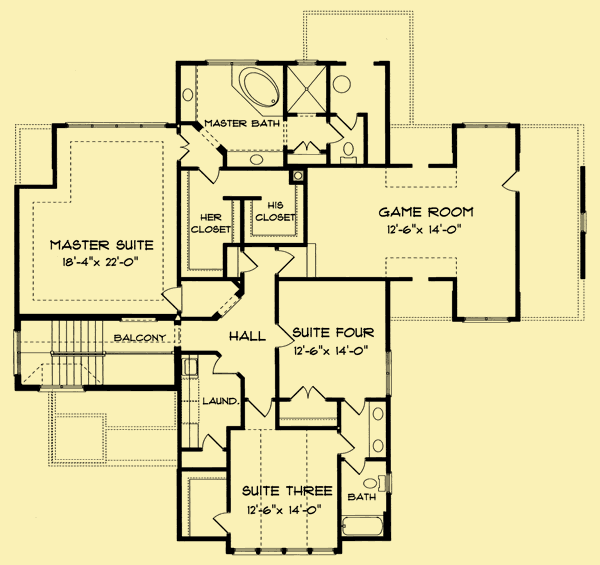door: (272, 247, 296, 277), (174, 131, 195, 164), (245, 398, 275, 420), (274, 322, 296, 351), (334, 430, 358, 456), (291, 384, 326, 401), (196, 431, 223, 453), (160, 287, 182, 313), (325, 120, 347, 145), (211, 357, 236, 379), (194, 168, 223, 186), (211, 507, 231, 532), (498, 169, 521, 190), (240, 245, 257, 273), (347, 456, 368, 477), (343, 398, 366, 417), (292, 139, 319, 153)
large_sink: (339, 142, 360, 167), (363, 473, 387, 492)
small_sink: (179, 65, 198, 124), (369, 402, 387, 458), (226, 151, 284, 168)
stairs: (20, 319, 109, 385)
tub: (230, 63, 283, 117), (341, 516, 384, 539)
window: (64, 119, 168, 130), (232, 547, 336, 554), (459, 316, 510, 324), (385, 351, 393, 398), (463, 122, 511, 129)
